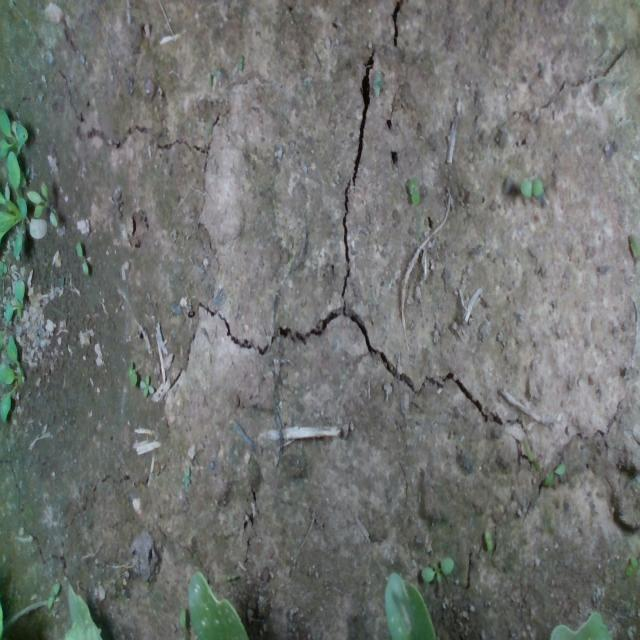weed: (418, 556, 454, 582), (517, 172, 545, 202), (74, 242, 90, 276), (139, 372, 157, 399)
